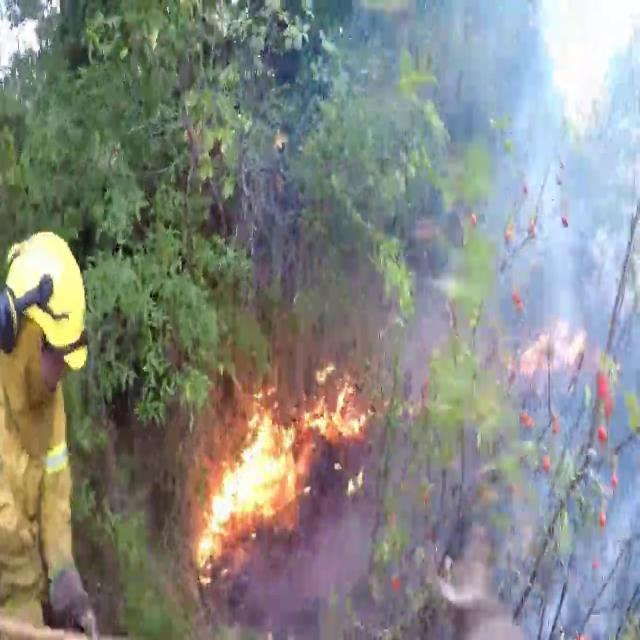Fire: (195, 354, 368, 570), (304, 356, 368, 446)
Smoke: (405, 1, 640, 612)
